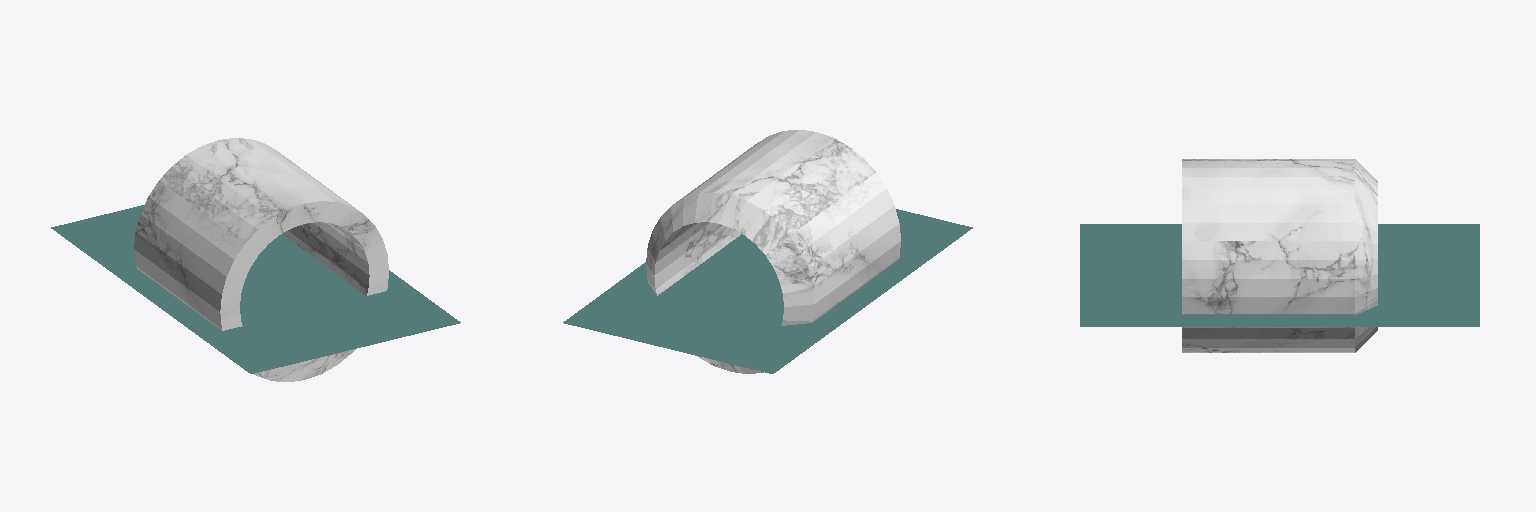
3 renders of one model, left to right at view 1: azimuth 30°, elevation 25°; view 2: azimuth 150°, elevation 25°; view 3: azimuth 270°, elevation 25°, orthographic.
Parts seen in each view (by area): view 1: TextureAtlas_mergedObject_TextureAtlas_mergedObject.004; view 2: TextureAtlas_mergedObject_TextureAtlas_mergedObject.004, Cylinder_Cylinder.001; view 3: TextureAtlas_mergedObject_TextureAtlas_mergedObject.004, Cylinder_Cylinder.001.
Boxes of the visible parts, x1,y1,x2,y2 form: TextureAtlas_mergedObject_TextureAtlas_mergedObject.004: [51, 138, 460, 381]; TextureAtlas_mergedObject_TextureAtlas_mergedObject.004: [563, 130, 972, 373]; Cylinder_Cylinder.001: [672, 195, 814, 360]; TextureAtlas_mergedObject_TextureAtlas_mergedObject.004: [1080, 159, 1479, 352]; Cylinder_Cylinder.001: [1182, 164, 1377, 338].
Size of the model in its own units: 6.58 by 5.28 by 10.85.
Materials: 2 (1 with a texture image).